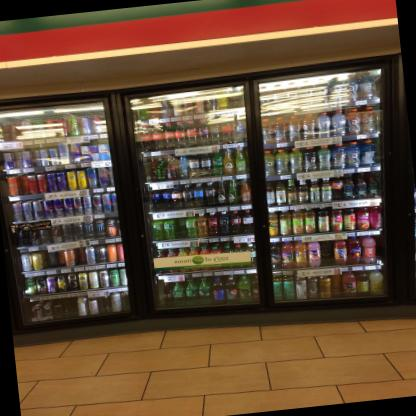empty_space: (320, 239, 336, 266), (172, 217, 187, 239)
